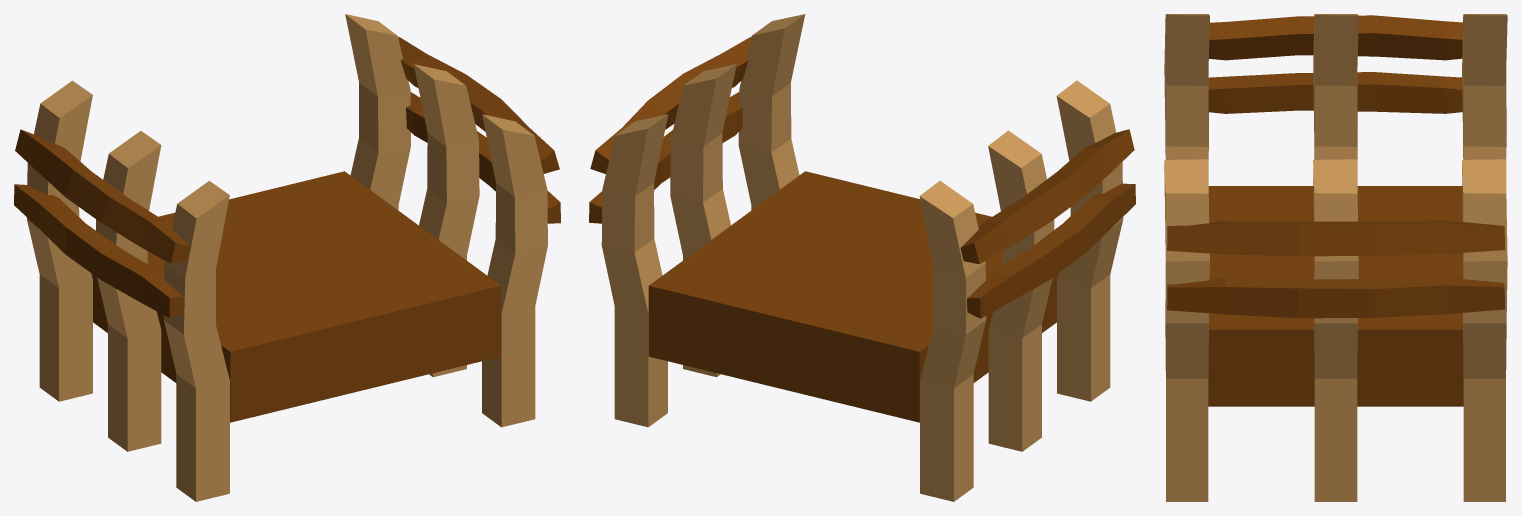
Rendered from kopru2.fbx.
3 renders of one model, left to right at view 1: azimuth 30°, elevation 25°; view 2: azimuth 150°, elevation 25°; view 3: azimuth 270°, elevation 25°, orthographic. The views are drawn at different scales.
Parts seen in each view (by area): view 1: Köprü2; view 2: Köprü2; view 3: Köprü2.
Boxes of the visible parts, x1,y1,x2,y2 form: Köprü2: (14, 14, 560, 501); Köprü2: (589, 14, 1135, 501); Köprü2: (1164, 14, 1507, 501).
Bounding box in the file's own units: 302 × 211 × 202.
